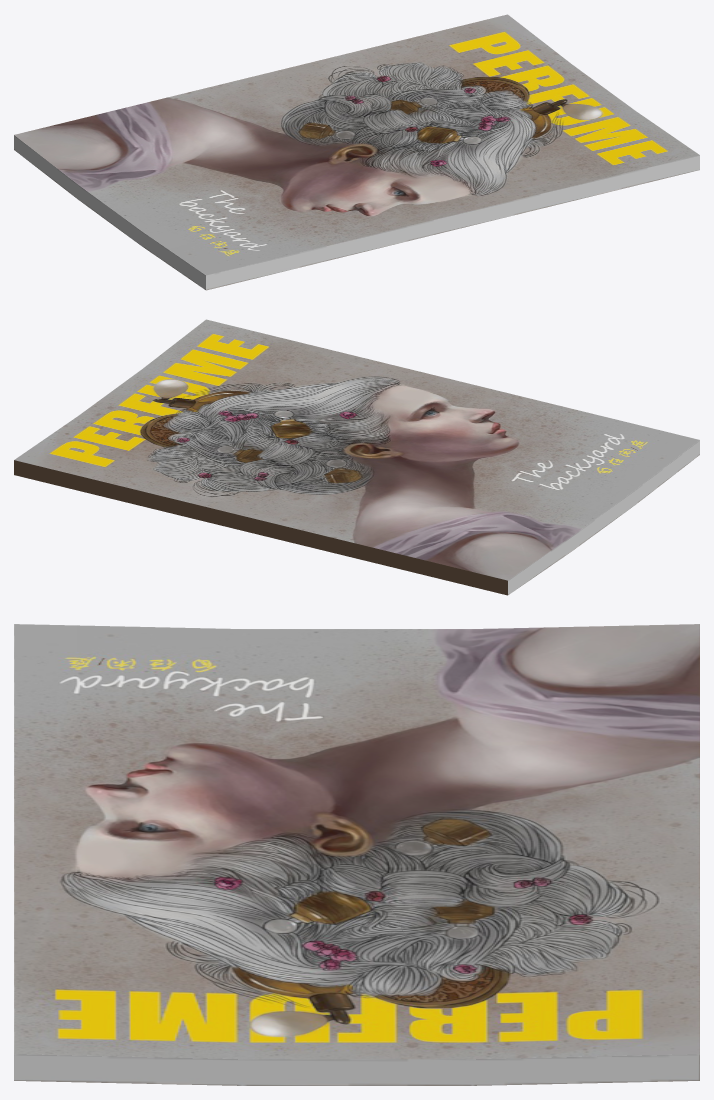
File: magazine.fbx
3 views of the same model, one above another, from view 1: azimuth 30°, elevation 25°; view 2: azimuth 150°, elevation 25°; view 3: azimuth 270°, elevation 25° (orthographic). The views are drawn at different scales.
Visible parts, largest first — view 1: magazine; view 2: magazine; view 3: magazine.
Boxes of the visible parts, x1,y1,x2,y2 form: magazine: (14,14,699,290); magazine: (14,319,699,595); magazine: (14,624,699,1085).
Size of the model in its own units: 86.48 by 2.98 by 58.28.
Materials: 1 (1 with a texture image).
